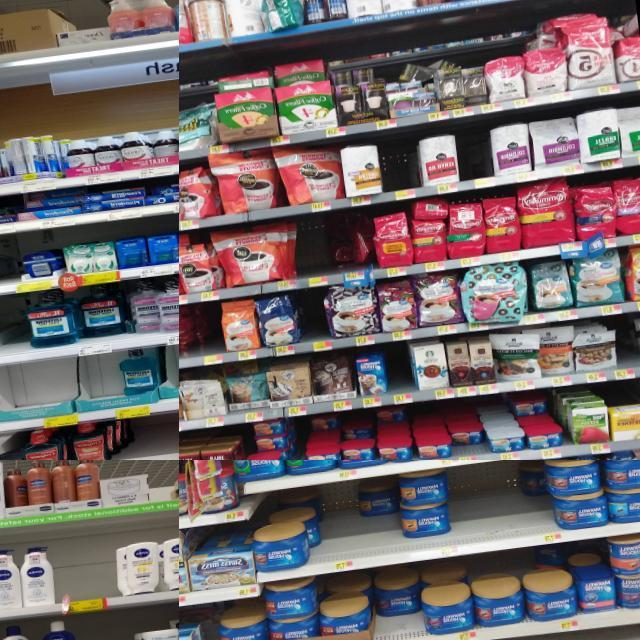Imprecise: (399, 466, 455, 554), (307, 409, 404, 457), (374, 567, 424, 640), (355, 477, 399, 558), (75, 282, 124, 342), (514, 392, 562, 448), (330, 219, 378, 270), (449, 425, 488, 453)
